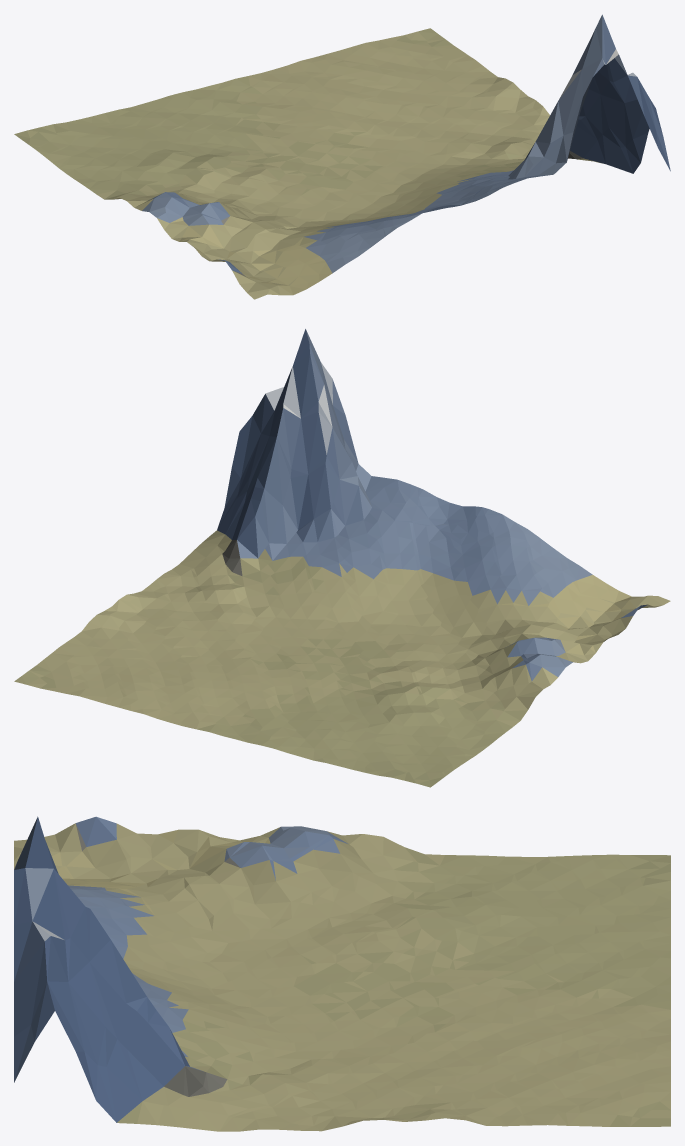
File: Ground_1_-5.glb
3 renders of one model, top to bottom at view 1: azimuth 30°, elevation 25°; view 2: azimuth 150°, elevation 25°; view 3: azimuth 270°, elevation 25°, orthographic. The views are drawn at different scales.
Parts seen in each view (by area): view 1: Ground_1_-5; view 2: Ground_1_-5; view 3: Ground_1_-5.
Boxes of the visible parts, bbox=[...] form: Ground_1_-5: bbox=[14, 14, 670, 299]; Ground_1_-5: bbox=[14, 329, 670, 787]; Ground_1_-5: bbox=[14, 816, 670, 1131].
Bounding box in the file's own units: 768 × 360 × 768.
